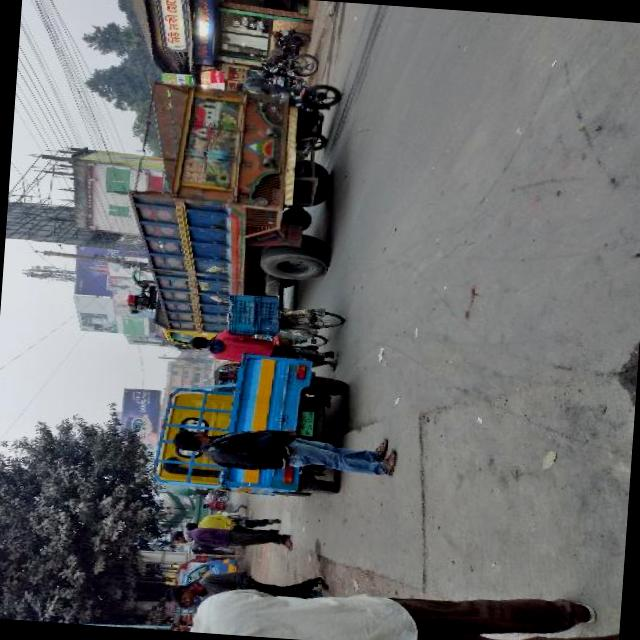motorcycle: (294, 78, 342, 157), (256, 50, 317, 95), (251, 26, 310, 72), (209, 359, 237, 396), (198, 490, 226, 503)
truck: (131, 82, 335, 354), (143, 348, 354, 498), (180, 555, 236, 589)
